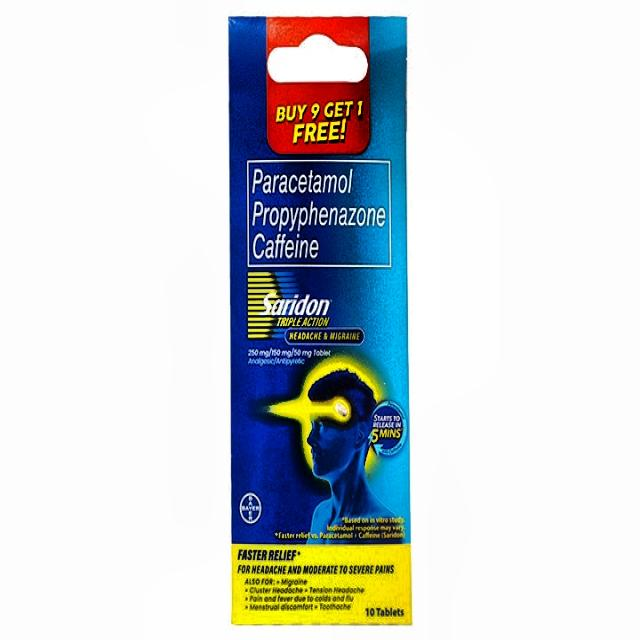Saridon: (252, 277, 351, 358)
